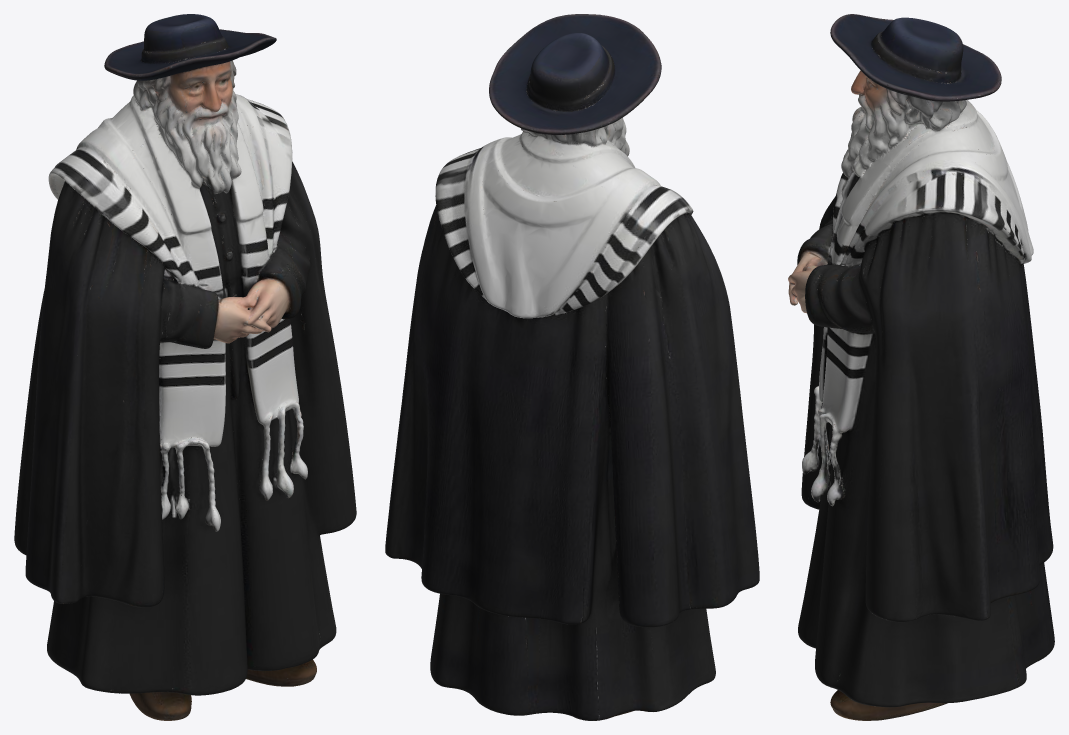
Rendered from maharal_viseme.glb.
The picture shows the model from 3 angles, left to right: view 1: azimuth 30°, elevation 25°; view 2: azimuth 150°, elevation 25°; view 3: azimuth 270°, elevation 25°; orthographic projection.
Size of the model in its own units: 1.01 by 2 by 0.7362.
1 material, 1 textured.
